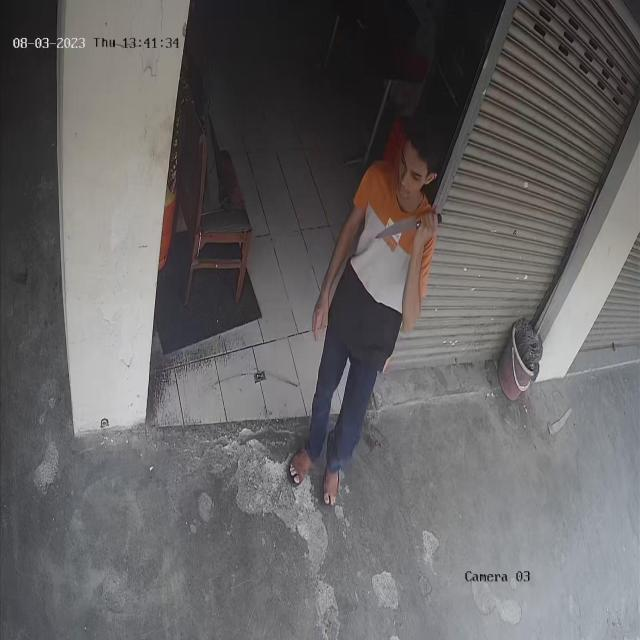Knife: (363, 206, 446, 247)
